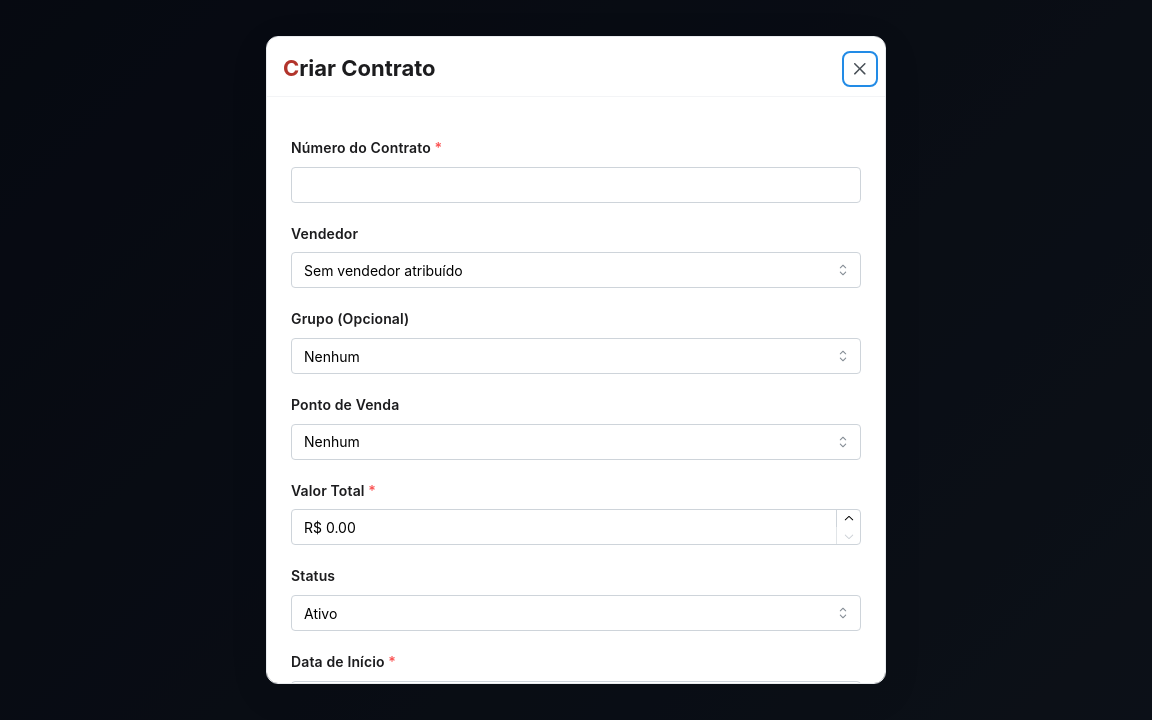
Test: ContractForm › Create Mode › should validate customer name with numbers and show direct instruction
In the field named "Número do Contrato": (576, 185) 291,167 -> 861,203, type "C001"
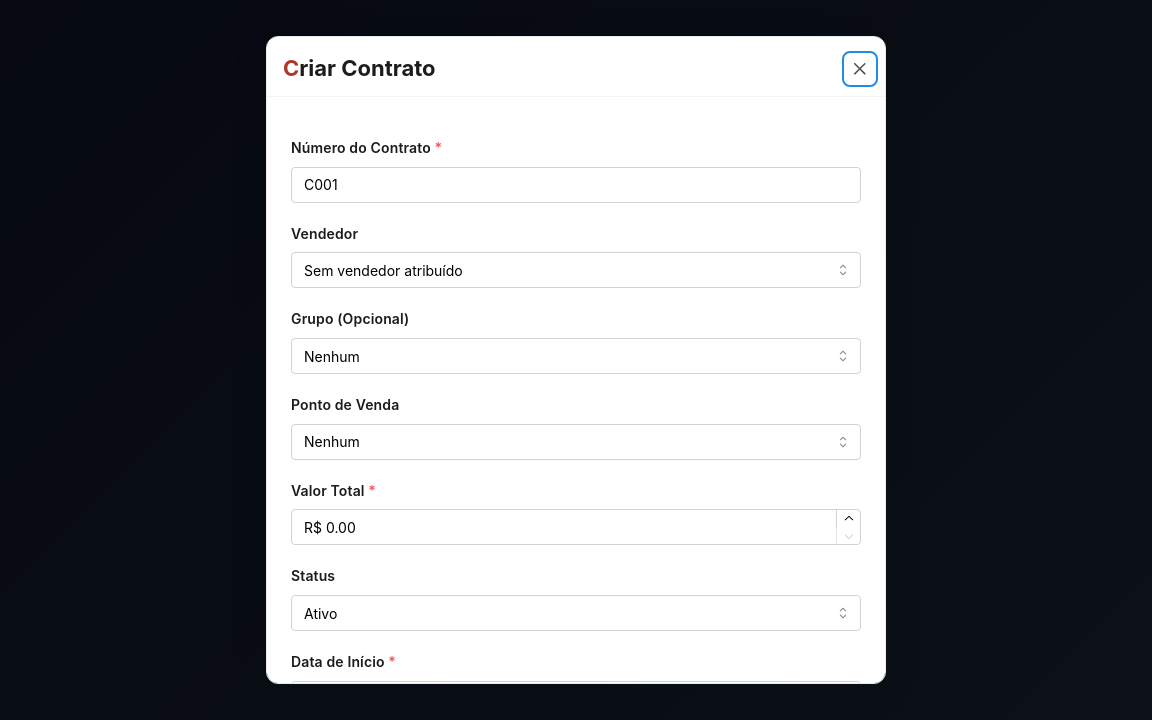
Replace the text in the field named "Valor Total" with "1000": (576, 527) 291,509 -> 861,545
(page scrolled)
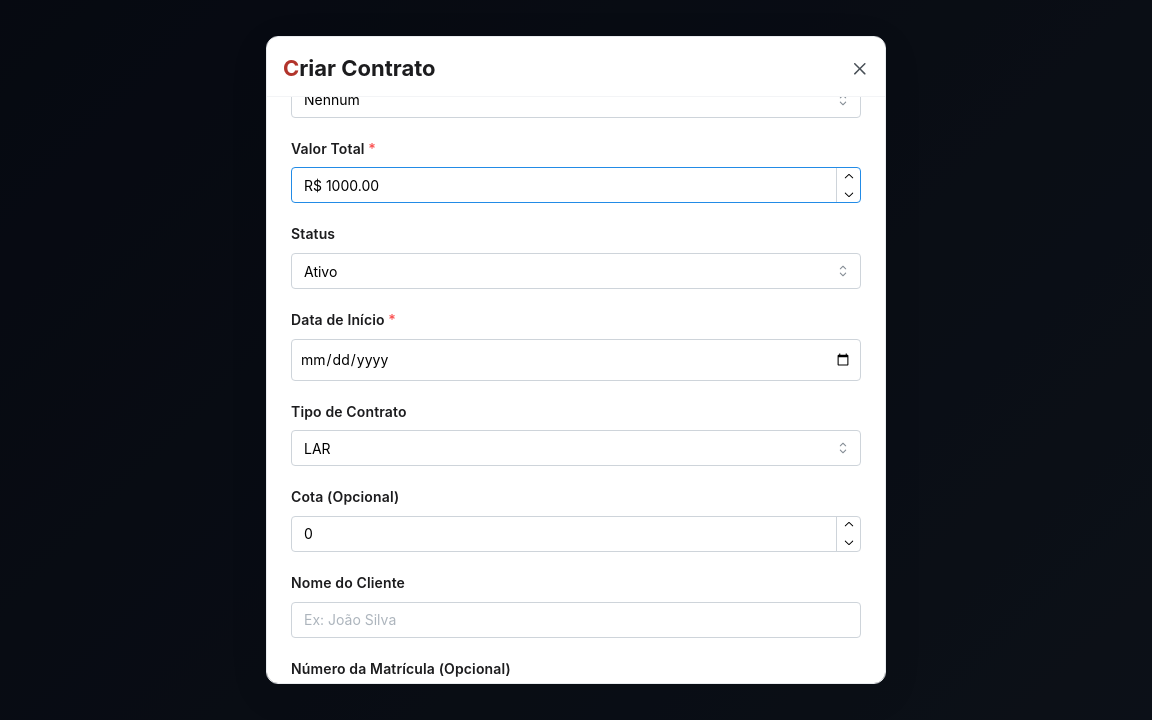
In the date field named "Data de Início": (576, 360) 291,339 -> 861,380, type "2024-01-01"
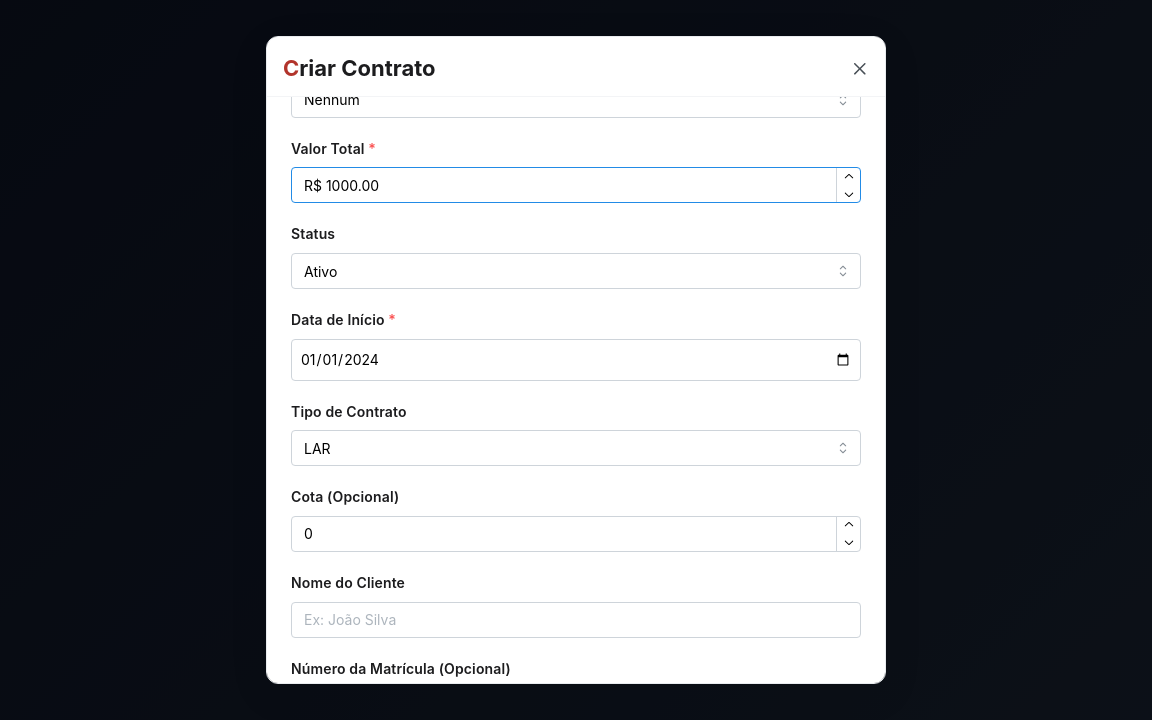
In the field named "Nome do Cliente": (576, 620) 291,602 -> 861,638, type "Cliente 123 Silva"
(page scrolled)
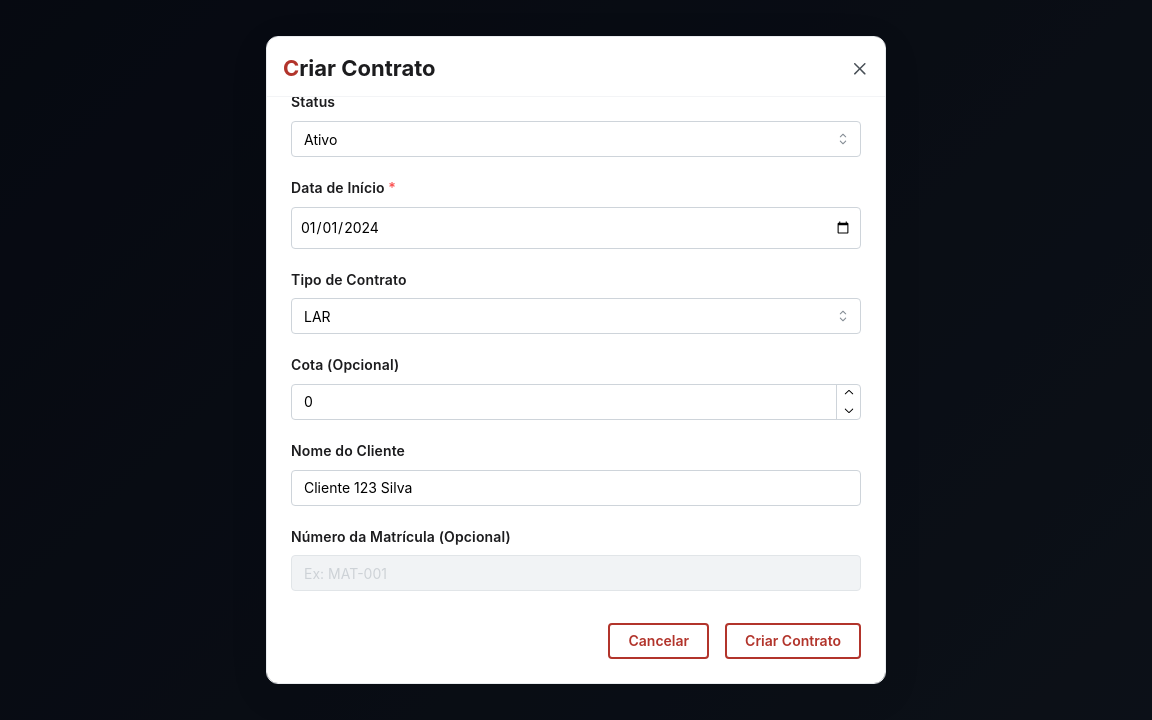
Click the button "Criar Contrato": (793, 641) 725,623 -> 861,659
(page scrolled)
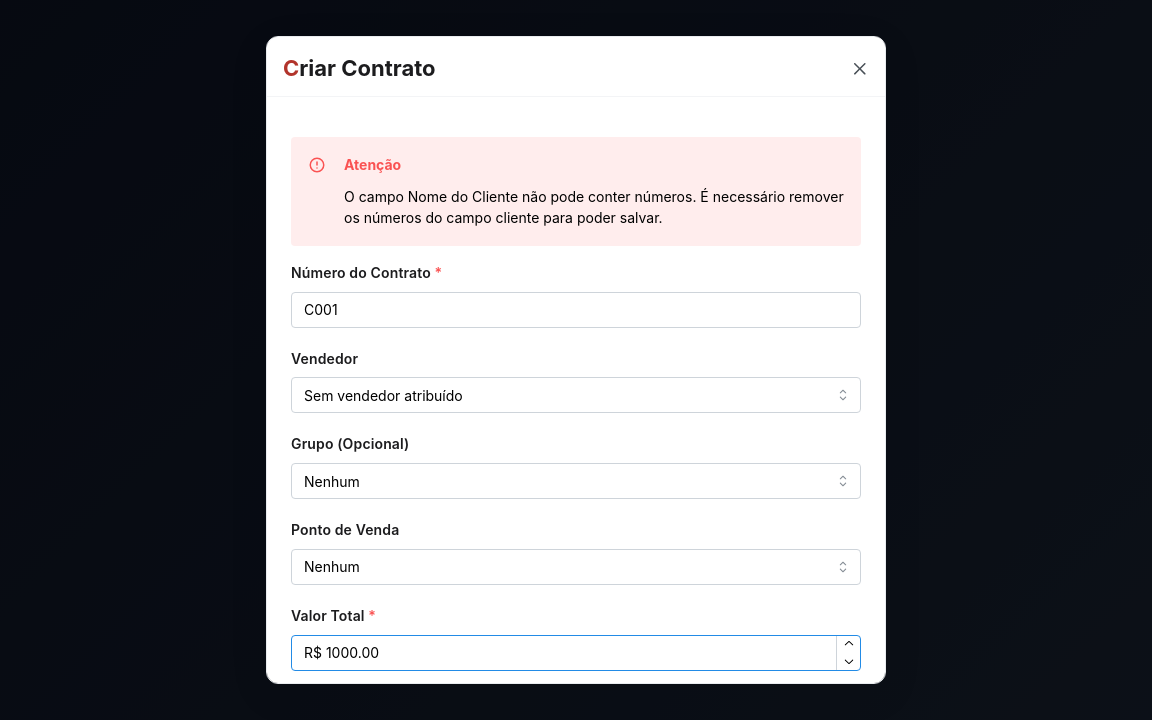
expect the text "O campo Nome do Cliente não pode conter números. É necessário remover os números do campo cliente para poder salvar." is shown: met, box 344,188 -> 844,226
